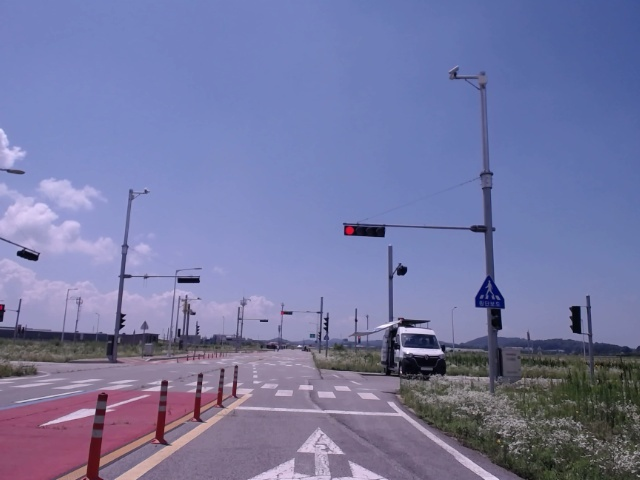red_4: (344, 226, 385, 237)
